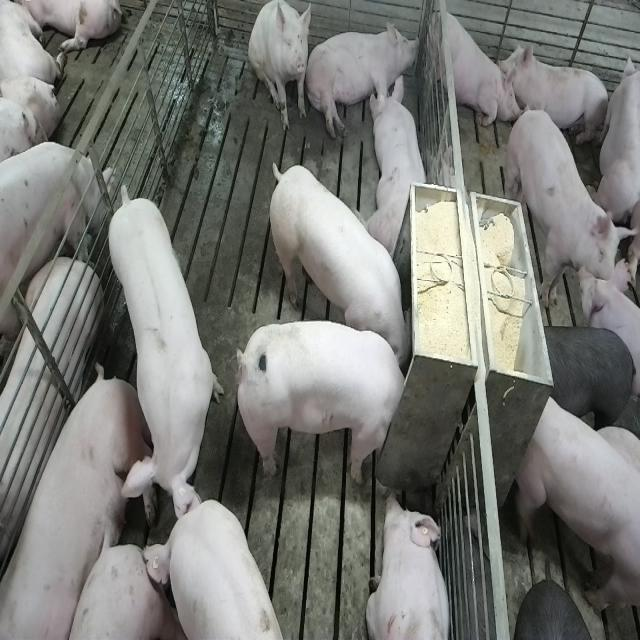Feeding: (263, 160, 411, 363), (242, 319, 415, 485)
Lateral_lying: (4, 368, 163, 640), (304, 16, 420, 141)
Sitting: (426, 2, 515, 132), (248, 2, 312, 134)
Standing: (105, 187, 221, 533), (514, 392, 638, 623), (507, 100, 627, 320), (0, 136, 112, 348), (140, 496, 282, 640), (544, 319, 637, 440), (597, 44, 640, 228)
Sternal_lying: (366, 491, 453, 640), (502, 39, 611, 150), (367, 71, 431, 258)
